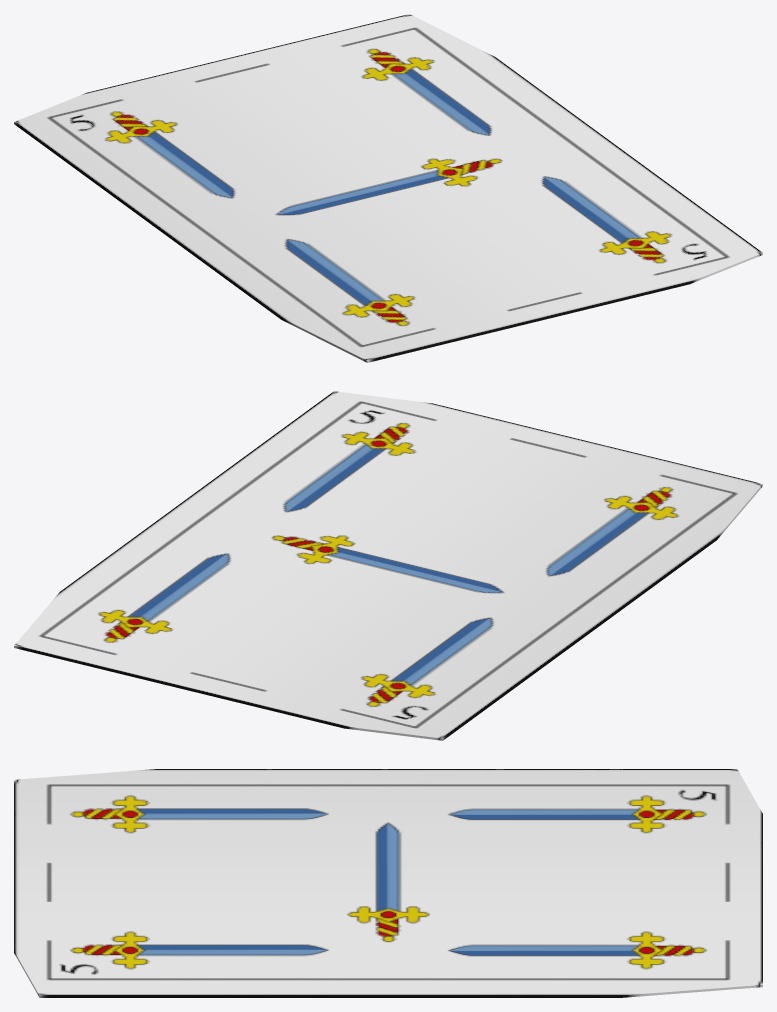
Rendered from Carta_Espanola_5_Espadas.glb.
The picture shows the model from 3 angles, top to bottom: view 1: azimuth 30°, elevation 25°; view 2: azimuth 150°, elevation 25°; view 3: azimuth 270°, elevation 25°; orthographic projection. The views are drawn at different scales.
Visible parts, largest first — view 1: Carta_Espanola_5_Espadas; view 2: Carta_Espanola_5_Espadas; view 3: Carta_Espanola_5_Espadas.
Part boxes in pixels (<box>): Carta_Espanola_5_Espadas: <box>14,14,762,362</box>; Carta_Espanola_5_Espadas: <box>14,391,762,740</box>; Carta_Espanola_5_Espadas: <box>14,769,762,997</box>.
Size of the model in its own units: 0.063 by 0.0003 by 0.088.
Materials: 1 (1 with a texture image).
